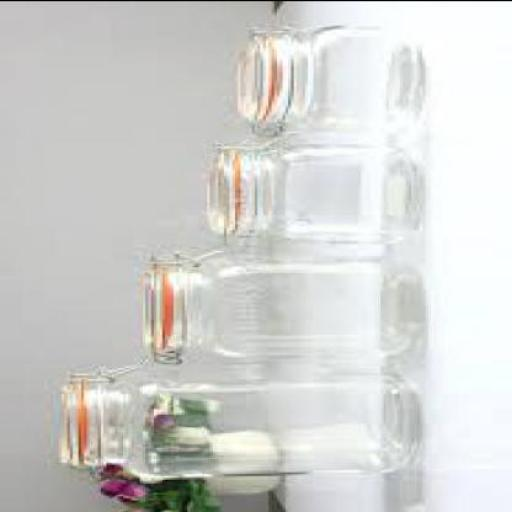biodegradable: (112, 480, 214, 511), (154, 398, 207, 430), (118, 477, 145, 503), (99, 475, 123, 501), (95, 462, 120, 478), (148, 415, 170, 432)
glass: (62, 374, 417, 476), (143, 251, 417, 363), (204, 148, 418, 244), (235, 26, 425, 134)
